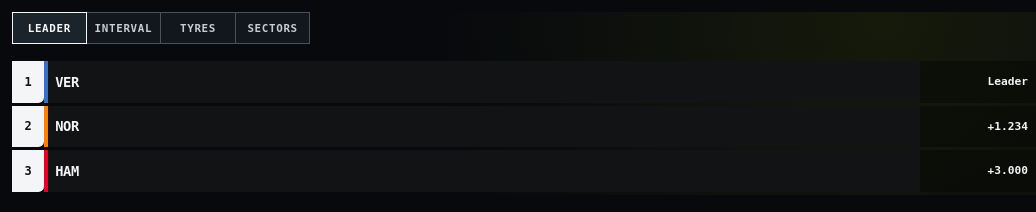
Scenario: switches from cumulative leader gaps to intervals between adjacent positions
Click the button "Interval". click: [124, 28]
box: [87,12,161,44]
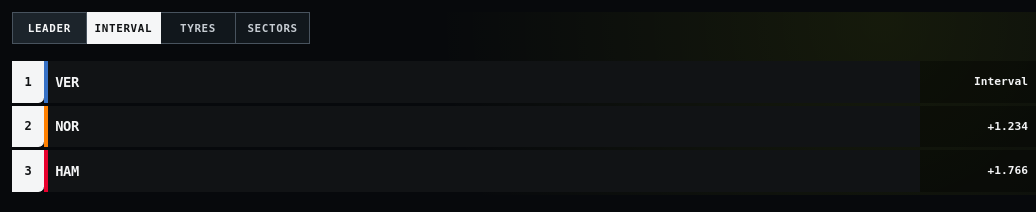
Check: the row "2 NOR +1.234" is shown, box [12,106,1035,147]
Check: the row "1 VER Interval" is shown, box [12,61,1035,103]
Check: the row "3 HAM +1.766" is shown, box [12,150,1035,192]
